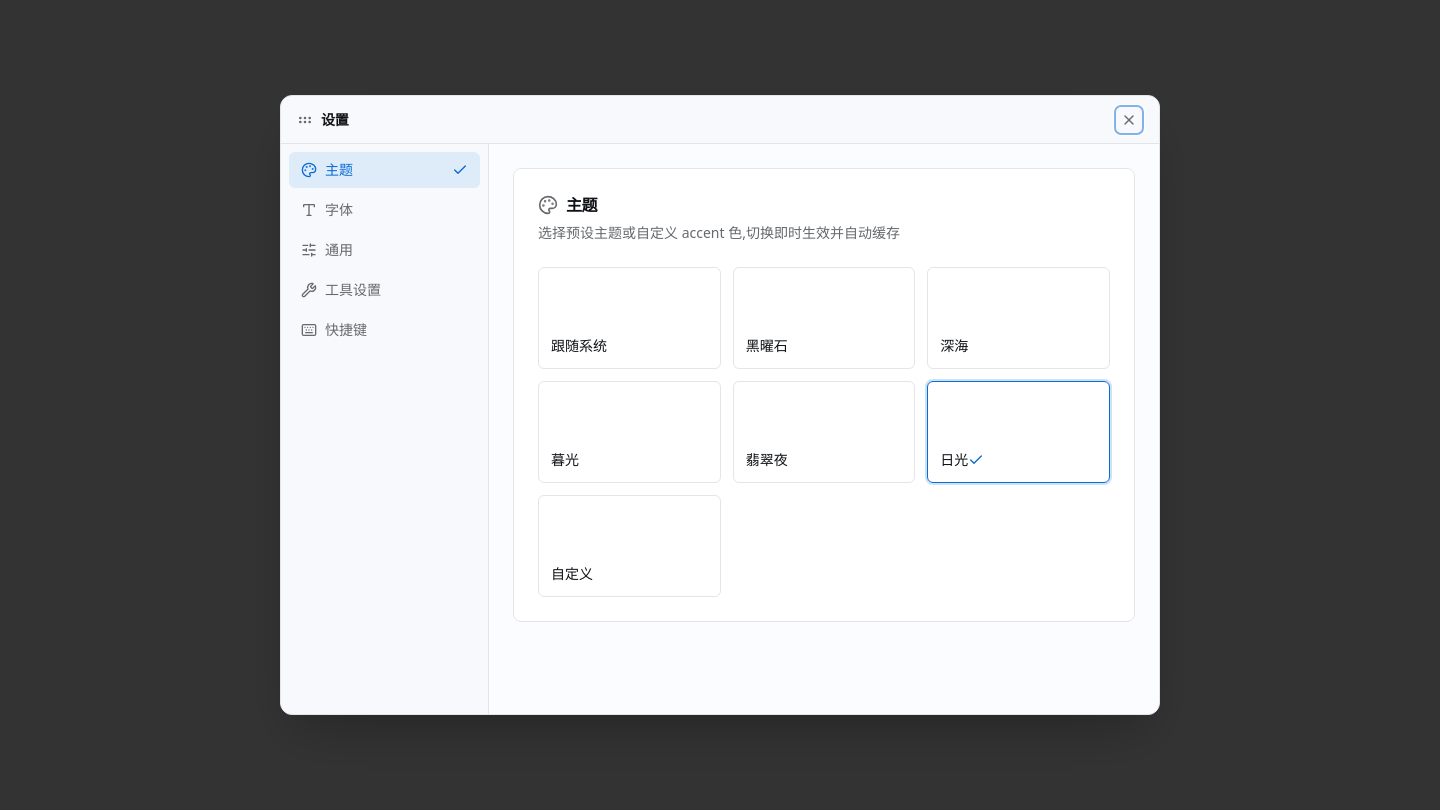
Test: SettingsDialog › switches content when clicking a menu item
Note: 点击「通用」菜单
Click the button "通用": (384, 250) [289,232,480,268]
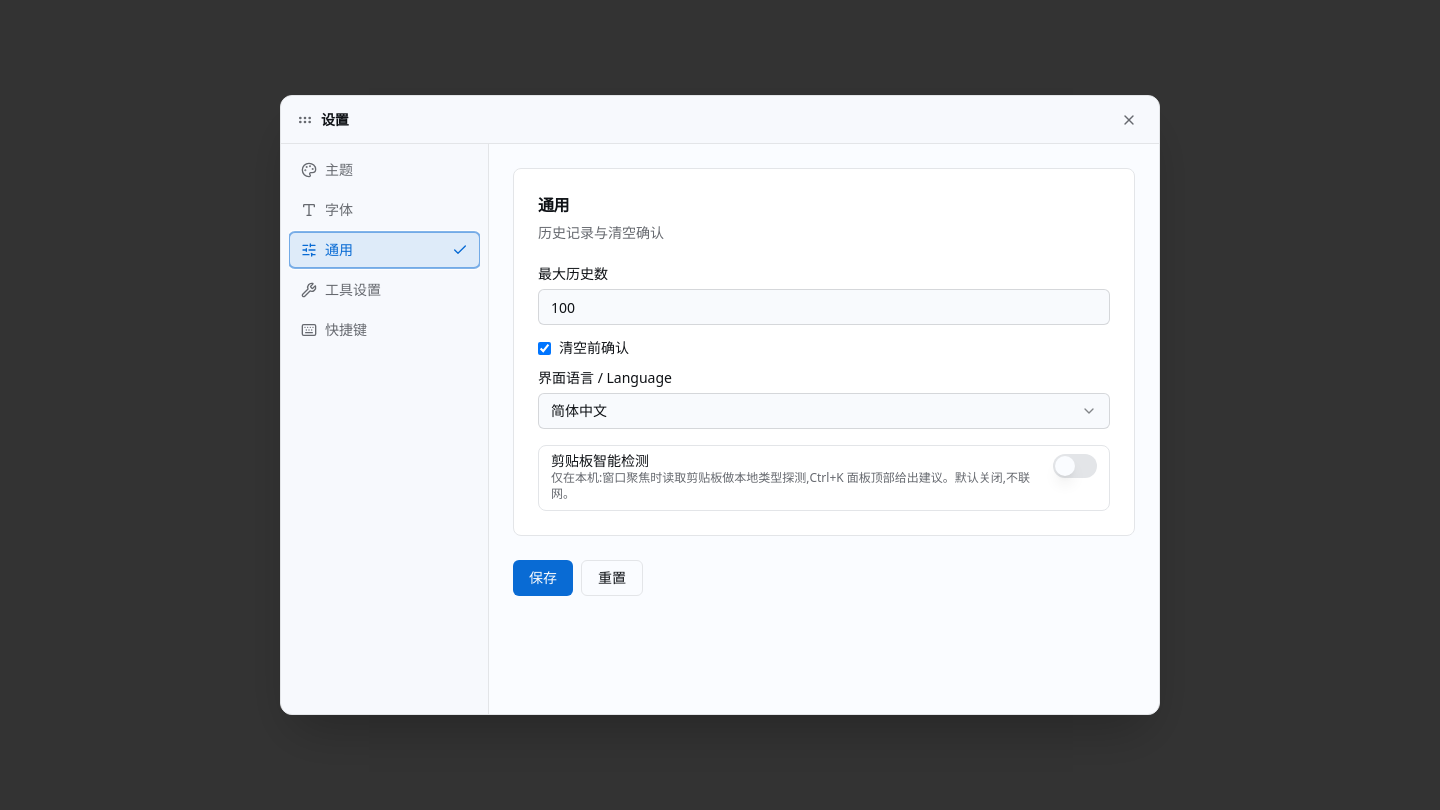
Check: the field labelled "JSON 默认缩进" is not shown
Check: the number field labelled "最大历史数" is shown, box [538,289,1110,325]
Note: 点击「工具设置」:默认落在文本编辑器标签页
Click the button "工具设置": (384, 290) [289,272,480,308]
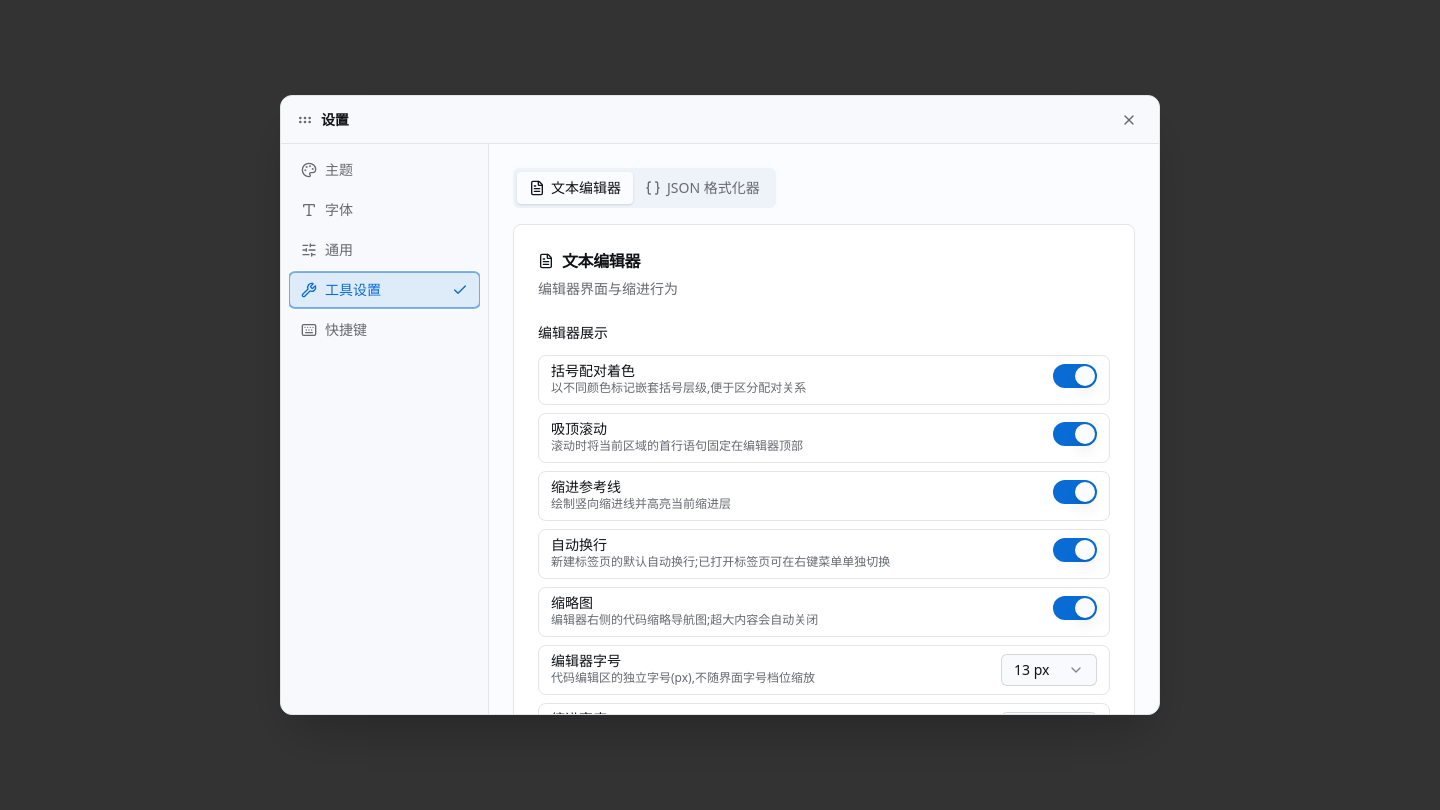
Check: the dropdown named "编辑器字号" is shown, box [1001,654,1097,686]
Press the mouse on the tab with test id "tool-tab-json_formatter": (702, 188) [633,172,772,204]
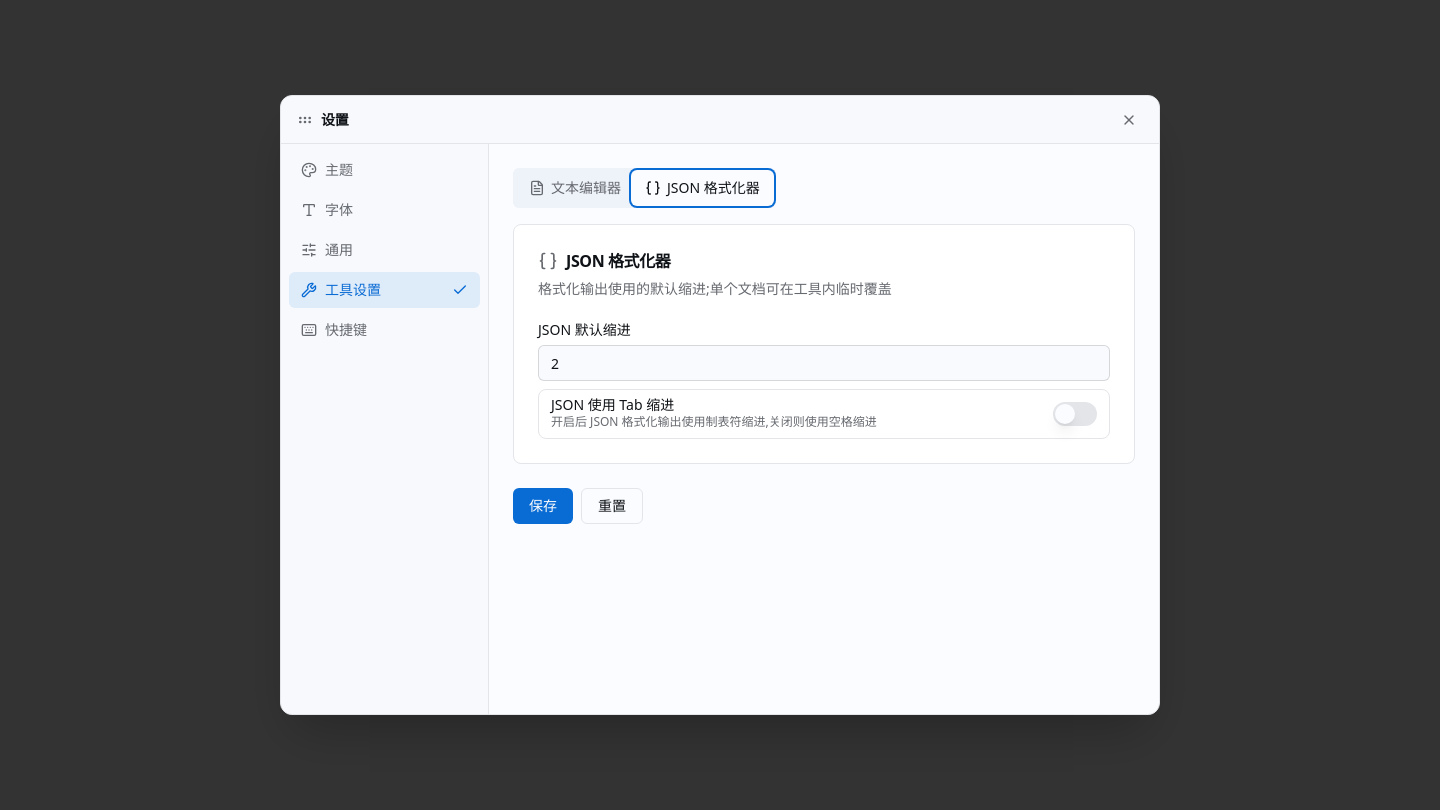
Check: the number field labelled "JSON 默认缩进" is shown, box [538,345,1110,381]
Note: 点击「快捷键」菜单
Click the button "快捷键": (384, 330) [289,312,480,348]
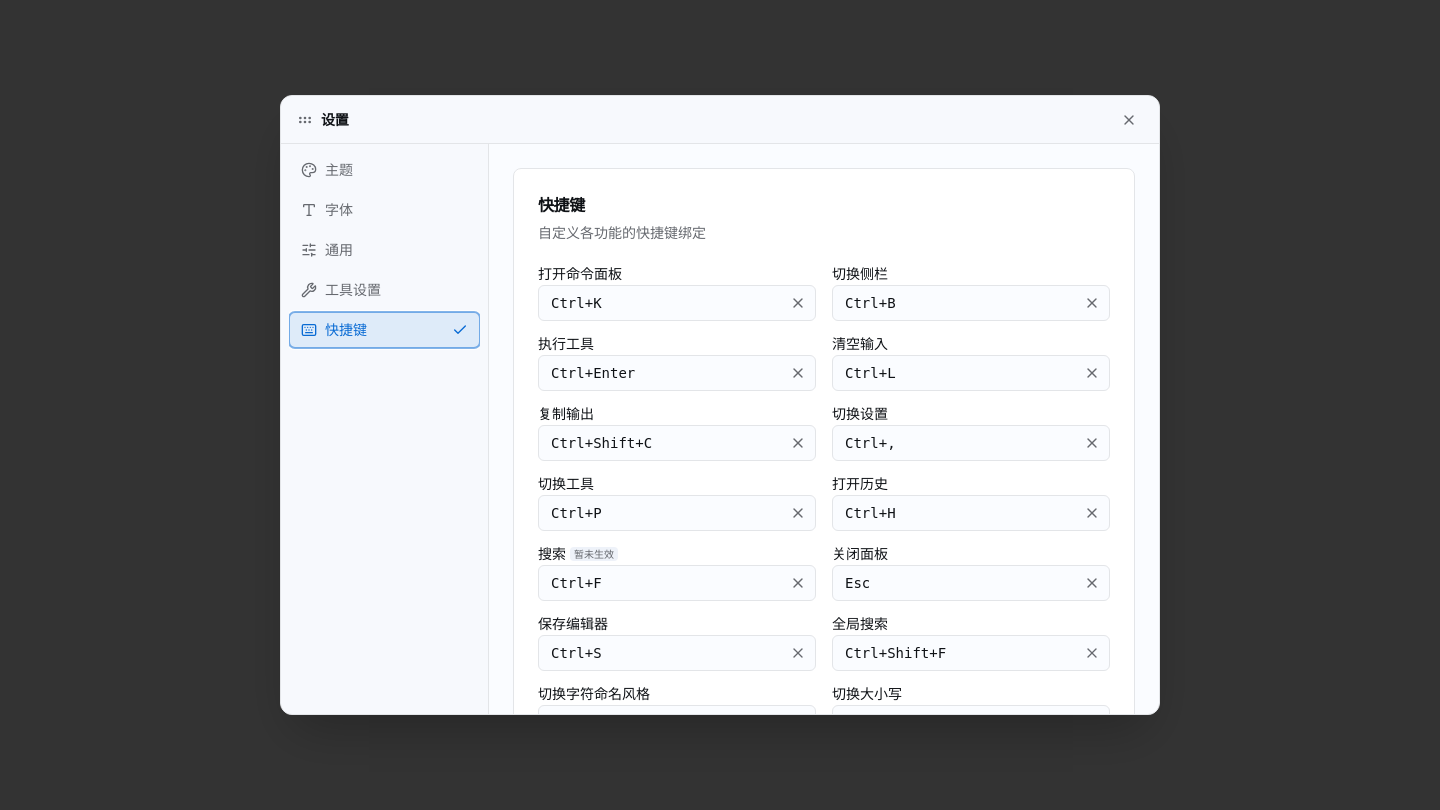
Check: the button with aria-label "打开命令面板" is shown, box [538,285,816,321]
